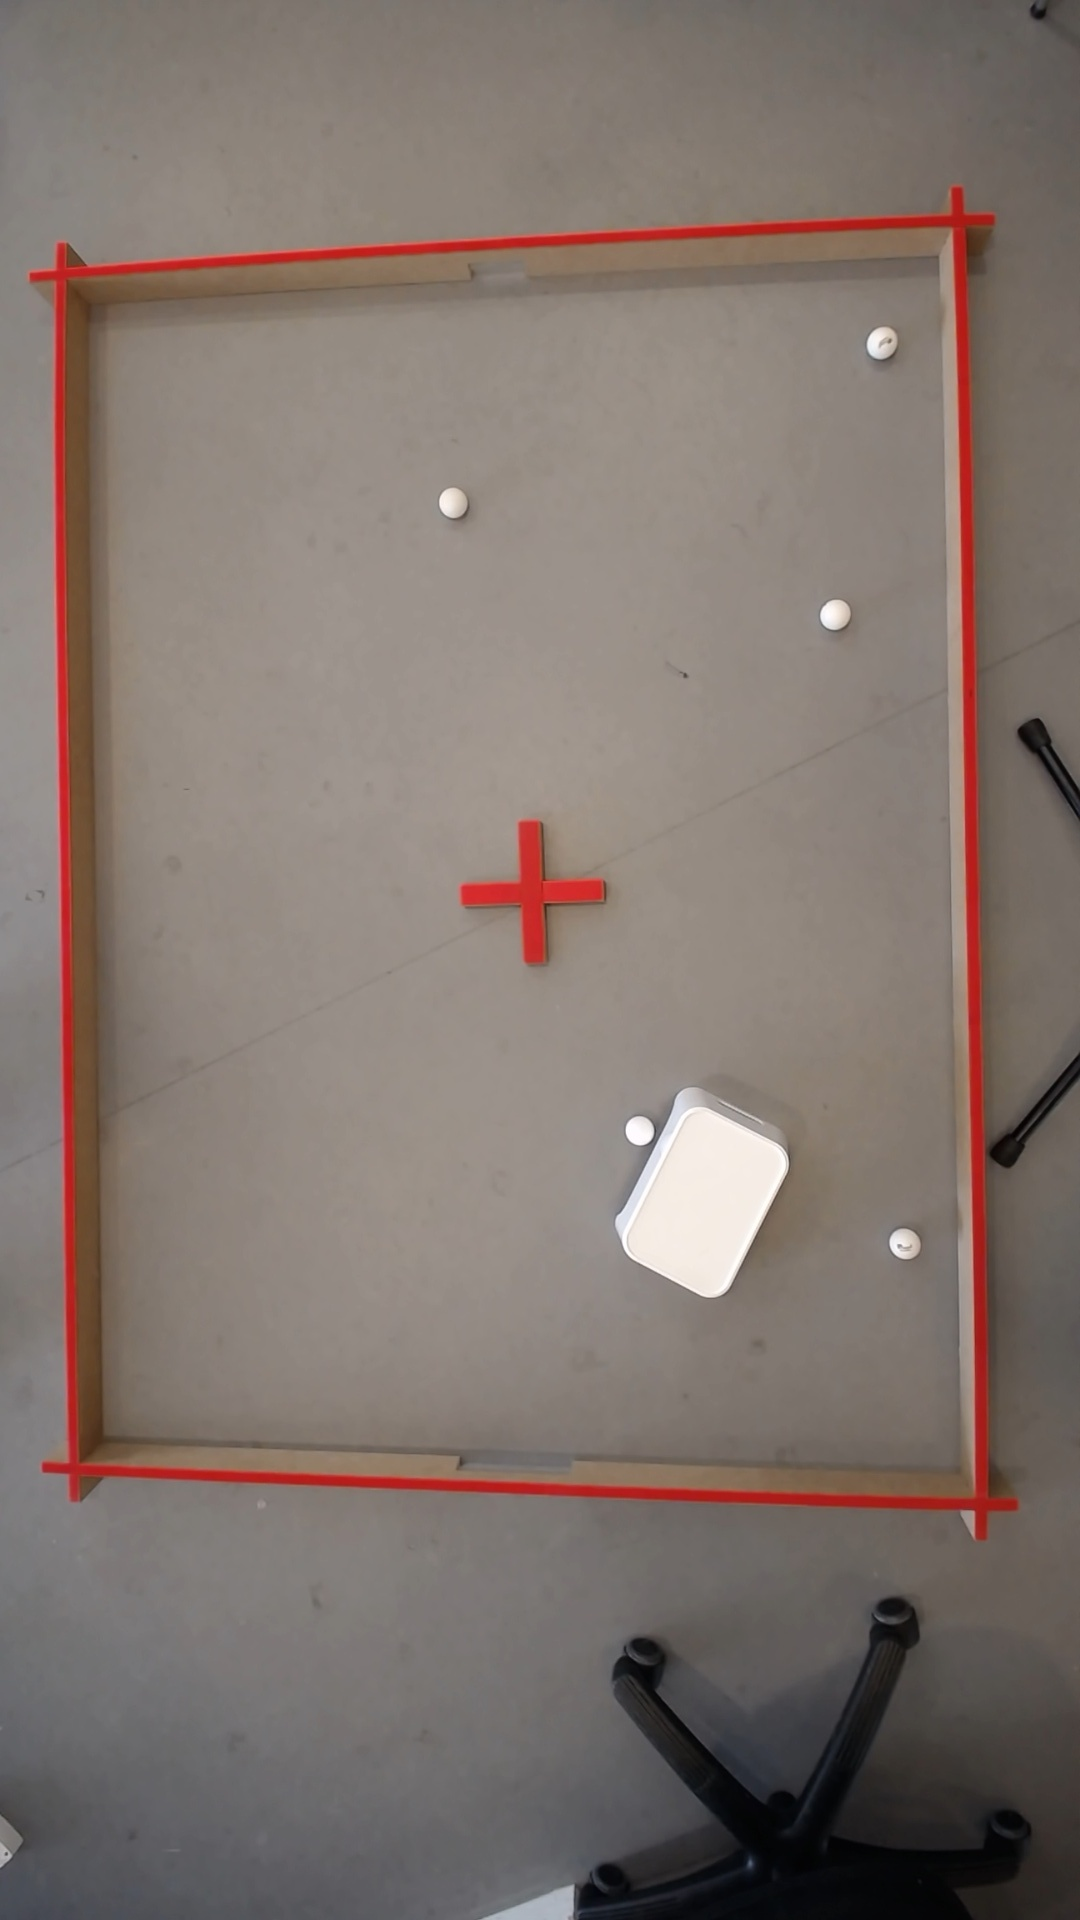balls: (601, 1091, 796, 1304), (884, 1225, 920, 1263), (814, 593, 851, 632), (861, 322, 897, 360), (625, 1116, 653, 1145)
car: (433, 483, 465, 517)
